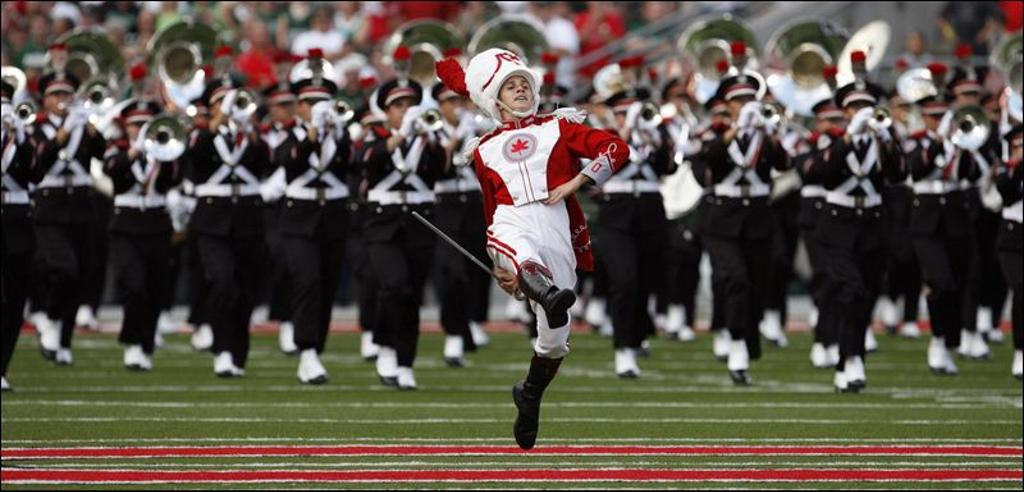face: (501, 75, 533, 108), (389, 97, 417, 126), (443, 96, 470, 124), (301, 98, 328, 123), (850, 100, 874, 127), (128, 120, 154, 144), (732, 94, 756, 120), (48, 91, 72, 115), (823, 118, 846, 143), (275, 100, 297, 121), (196, 108, 216, 130), (929, 113, 949, 134), (618, 110, 636, 131), (960, 92, 978, 110), (895, 103, 911, 121)
